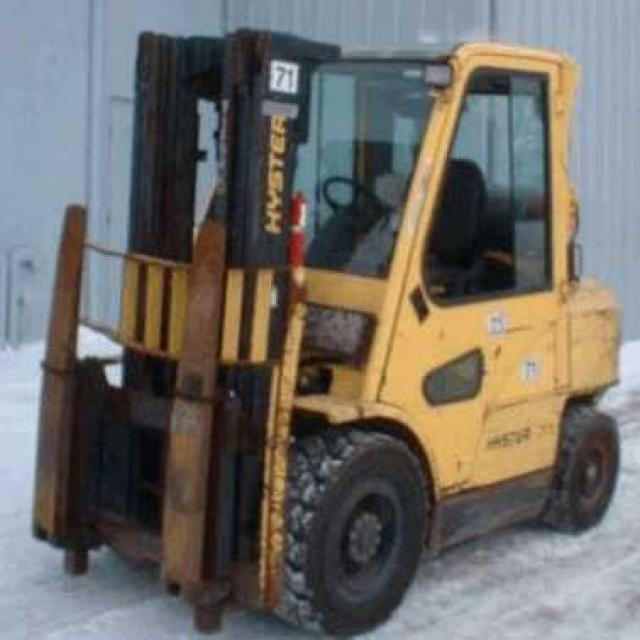Chariot elevateur: (39, 27, 623, 640)
